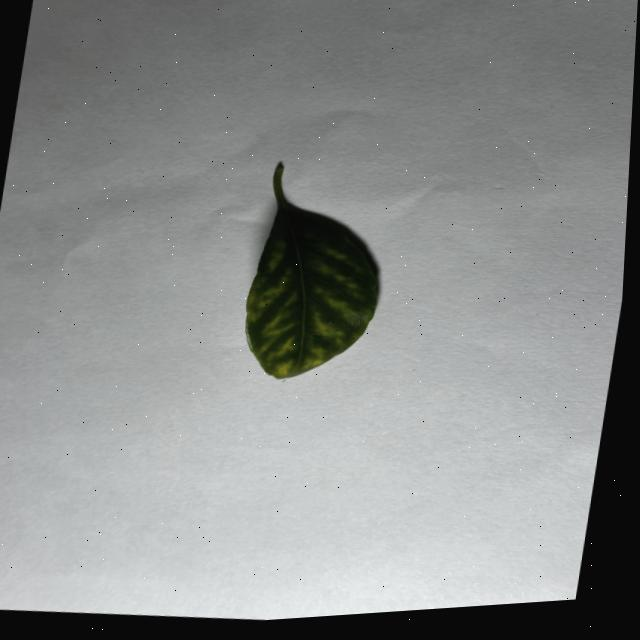greening: (244, 162, 375, 377)
